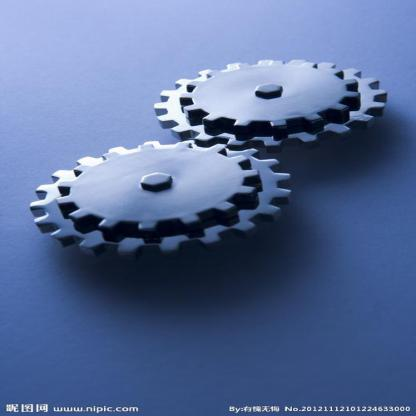FOD: (27, 138, 297, 260), (154, 55, 390, 152), (55, 142, 262, 236), (179, 58, 361, 136)
